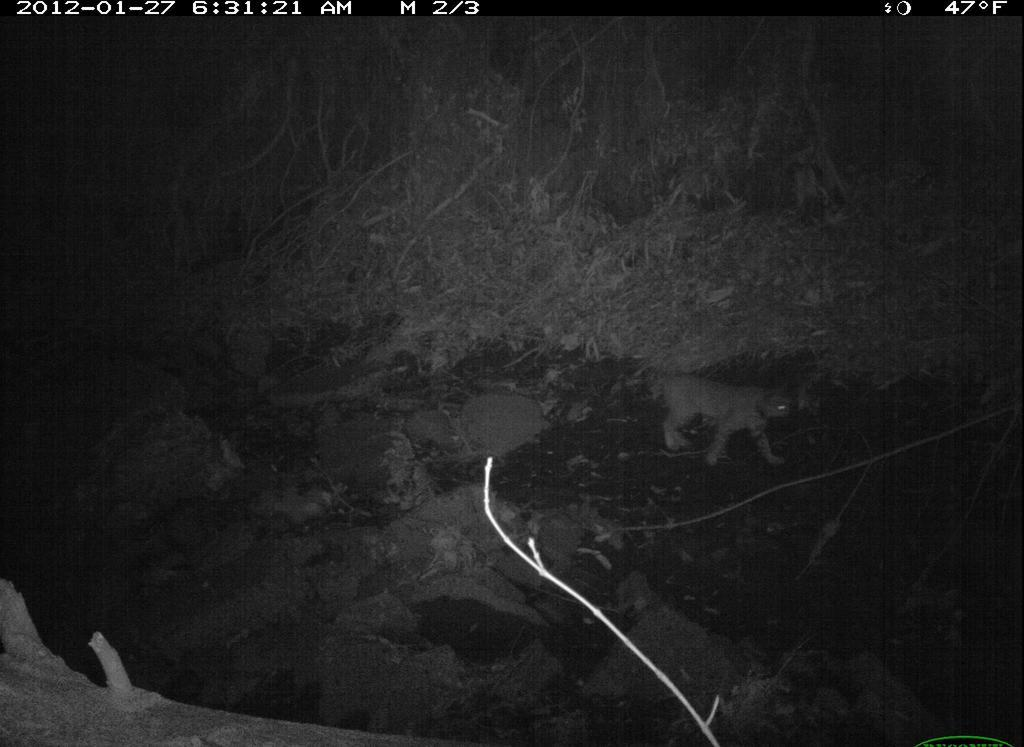bobcat: (623, 355, 822, 489)
